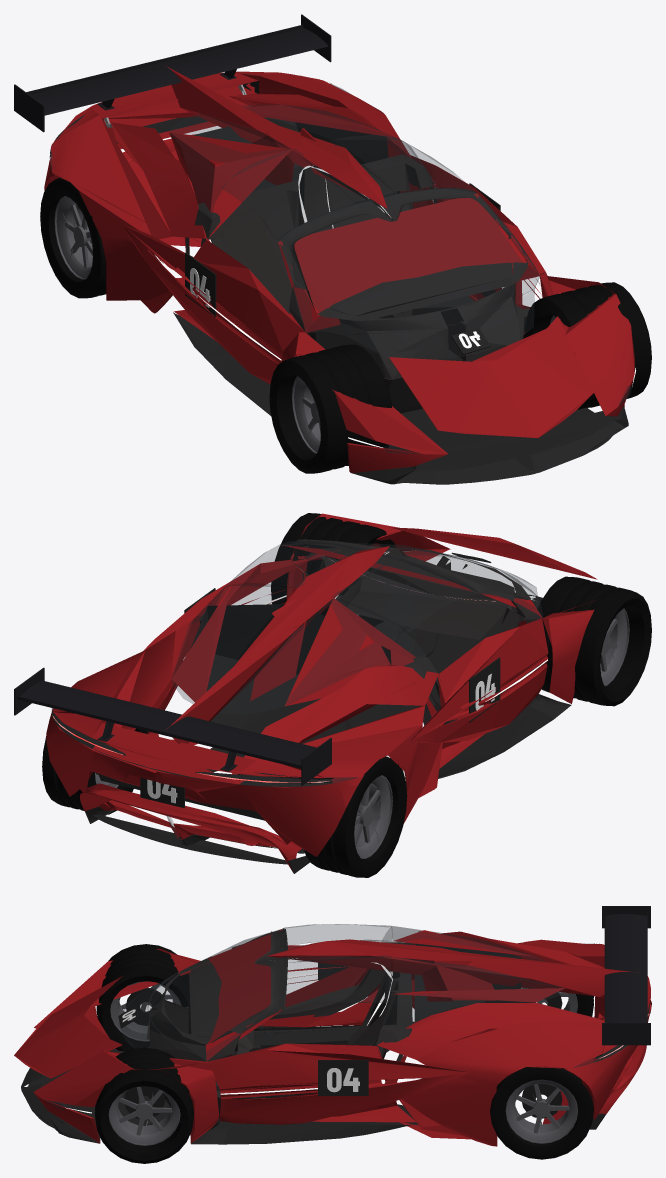
The model's file is vanta-gt4.glb.
The picture shows the model from 3 angles, top to bottom: view 1: azimuth 30°, elevation 25°; view 2: azimuth 150°, elevation 25°; view 3: azimuth 270°, elevation 25°; orthographic projection. The views are drawn at different scales.
Visible parts, largest first — view 1: Body, Wheel_FR, Wheel_RR, Wheel_FL; view 2: Body, Wheel_FR, Wheel_RR, Wheel_FL, Wheel_RL; view 3: Body, Wheel_FL, Wheel_RL, Wheel_FR, Wheel_RR.
Boxes of the visible parts, x1,y1,x2,y2 form: Body: (14, 14, 635, 484); Wheel_FR: (269, 344, 391, 473); Wheel_RR: (40, 177, 106, 298); Wheel_FL: (524, 282, 651, 409); Body: (14, 513, 597, 873); Wheel_FR: (530, 576, 651, 706); Wheel_RR: (304, 756, 407, 877); Wheel_FL: (271, 513, 395, 626); Wheel_RL: (42, 728, 147, 814); Body: (14, 906, 651, 1146); Wheel_FL: (95, 1047, 193, 1163); Wheel_RL: (490, 1067, 593, 1159); Wheel_FR: (96, 944, 188, 1051); Wheel_RR: (521, 987, 593, 1016).
Size of the model in its own units: 2.25 by 1.24 by 4.54.
Materials: 6 (1 with a texture image).
